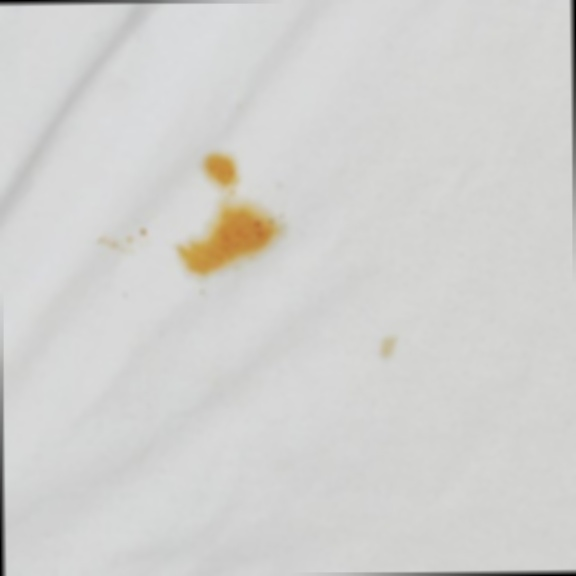kimchi: (166, 135, 293, 306), (87, 211, 156, 265), (371, 331, 408, 361), (117, 287, 134, 302)
